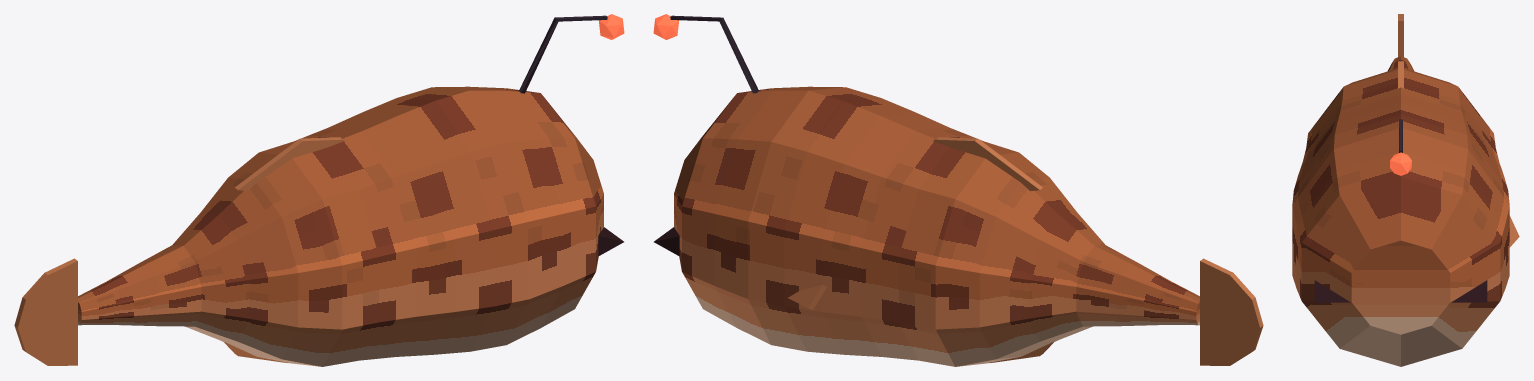
Rendered from wreck_frogfish.glb.
The picture shows the model from 3 angles, left to right: view 1: azimuth 30°, elevation 25°; view 2: azimuth 150°, elevation 25°; view 3: azimuth 270°, elevation 25°; orthographic projection. The views are drawn at different scales.
Visible parts, largest first — view 1: fish_wreck_frogfish; view 2: fish_wreck_frogfish; view 3: fish_wreck_frogfish.
Part boxes in pixels (<box>): fish_wreck_frogfish: <box>14,14,624,366</box>; fish_wreck_frogfish: <box>653,14,1263,366</box>; fish_wreck_frogfish: <box>1292,14,1519,366</box>.
Size of the model in its own units: 1.21 by 0.5778 by 0.4375.
Materials: 7 (1 with a texture image).
